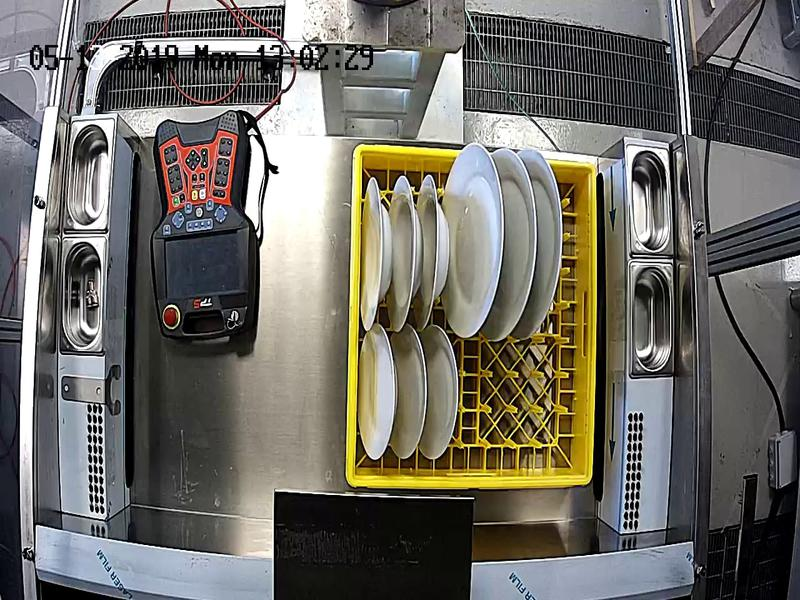Dish: (451, 142, 504, 340), (505, 145, 536, 338), (357, 323, 396, 461), (538, 151, 565, 335), (416, 175, 448, 325), (390, 174, 421, 328), (361, 178, 390, 328), (428, 324, 459, 461), (395, 329, 426, 465)
